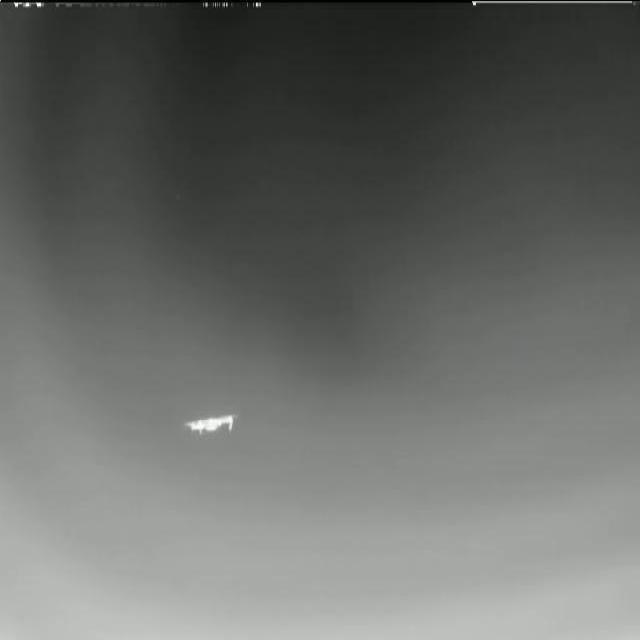DRONE: (174, 402, 249, 447)
